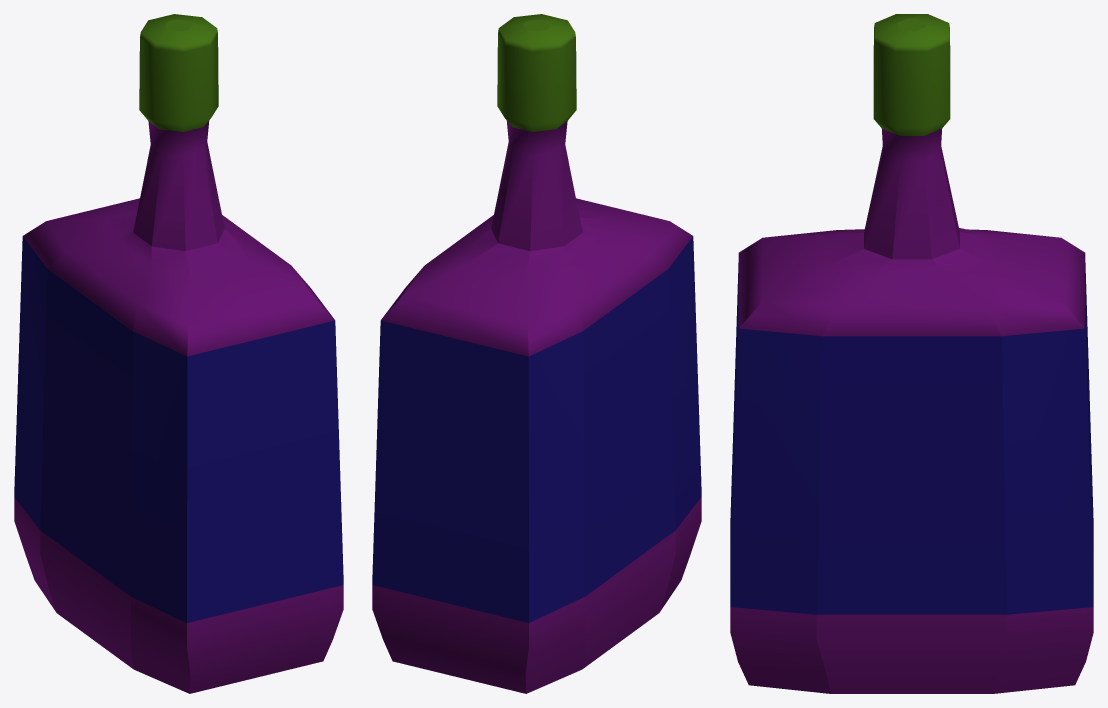
The picture shows the model from 3 angles, left to right: view 1: azimuth 30°, elevation 25°; view 2: azimuth 150°, elevation 25°; view 3: azimuth 270°, elevation 25°; orthographic projection. The views are drawn at different scales.
Visible parts, largest first — view 1: B2; view 2: B2; view 3: B2.
Boxes of the visible parts, x1,y1,x2,y2 form: B2: [14, 14, 343, 693]; B2: [372, 14, 701, 693]; B2: [730, 14, 1093, 693].
Bounding box in the file's own units: 30.07 × 91.65 × 48.22.
